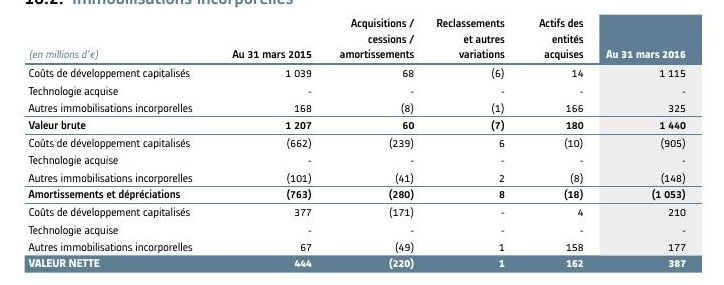table: (0, 0, 724, 285)
